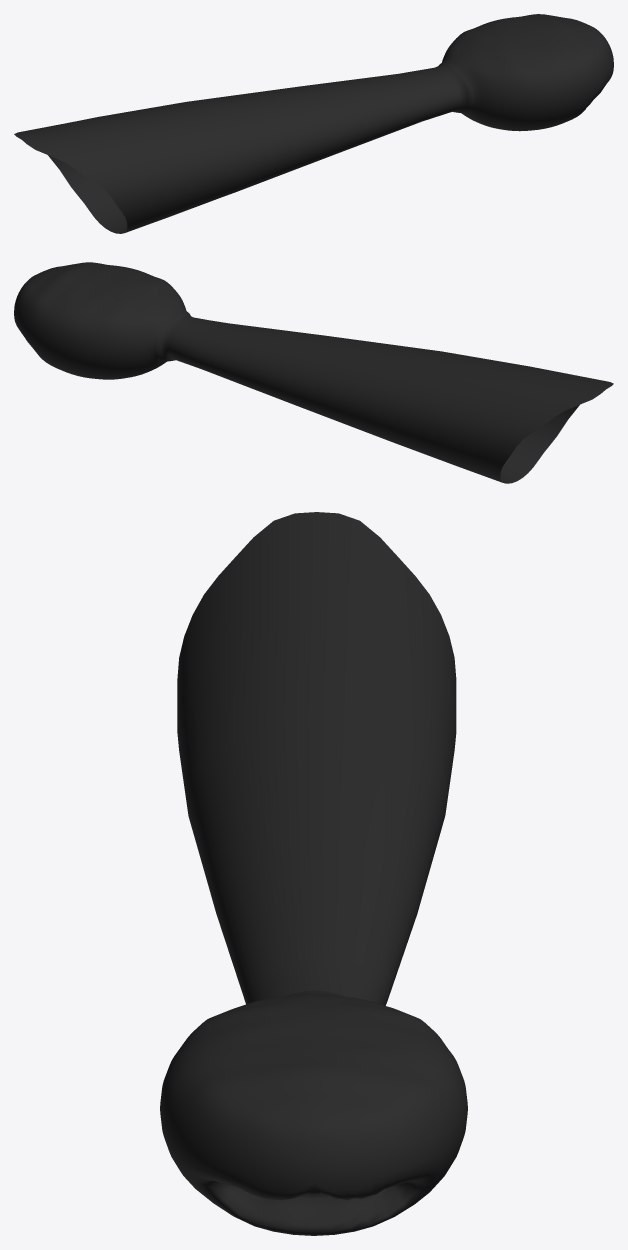
The model's file is baby arm.fbx.
The picture shows the model from 3 angles, top to bottom: view 1: azimuth 30°, elevation 25°; view 2: azimuth 150°, elevation 25°; view 3: azimuth 270°, elevation 25°; orthographic projection. The views are drawn at different scales.
Parts seen in each view (by area): view 1: pSphere10; view 2: pSphere10; view 3: pSphere10.
Part boxes in pixels (<box>): pSphere10: <box>14,14,613,233</box>; pSphere10: <box>14,262,613,483</box>; pSphere10: <box>160,512,467,1235</box>.
Bounding box in the file's own units: 2.77 × 0.4933 × 0.6333.
Materials: 1 (1 with a texture image).
